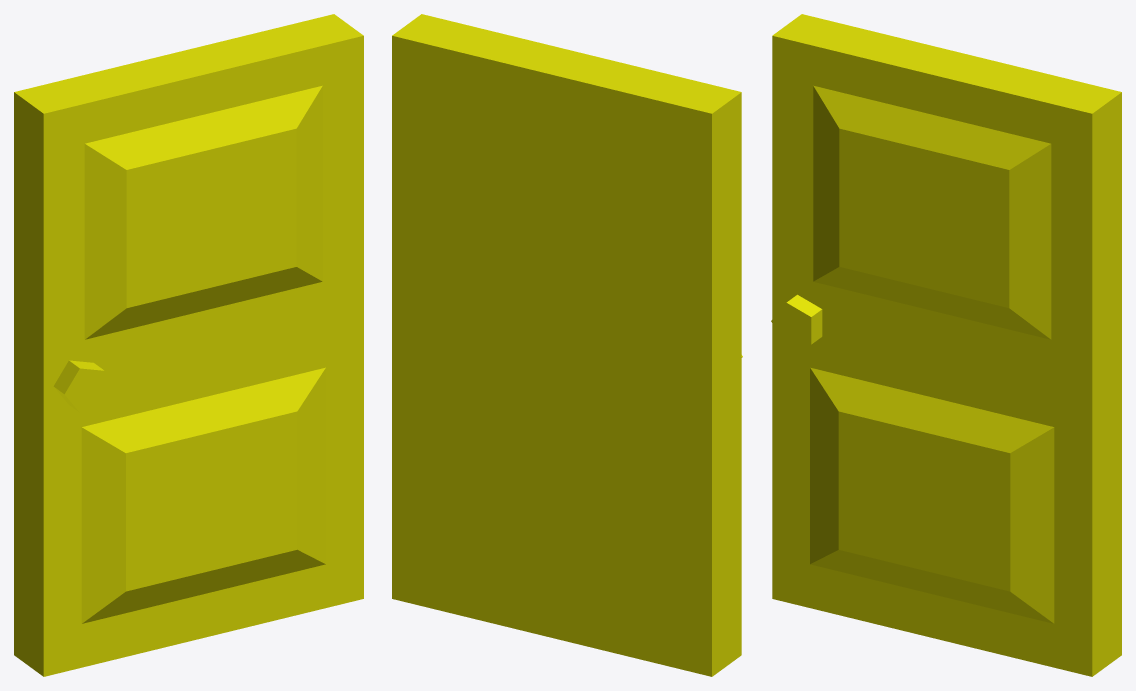
3 renders of one model, left to right at view 1: azimuth 30°, elevation 25°; view 2: azimuth 150°, elevation 25°; view 3: azimuth 330°, elevation 25°, orthographic.
Visible parts, largest first — view 1: door1; view 2: door1; view 3: door1.
Boxes of the visible parts, x1=… form: door1: x1=14, y1=14, x2=363, y2=676; door1: x1=392, y1=14, x2=742, y2=676; door1: x1=771, y1=14, x2=1121, y2=676.
Size of the model in its own units: 1.79 by 3.01 by 0.394.
1 material, 1 textured.
